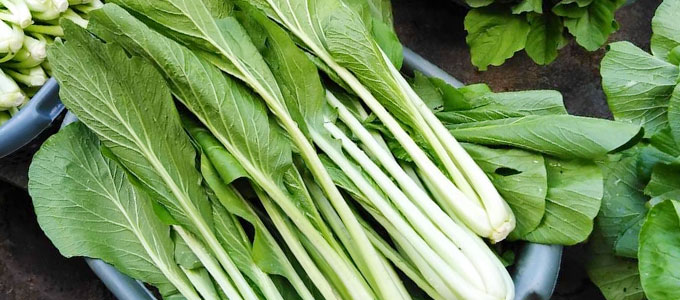Sawi: (40, 10, 538, 300)
